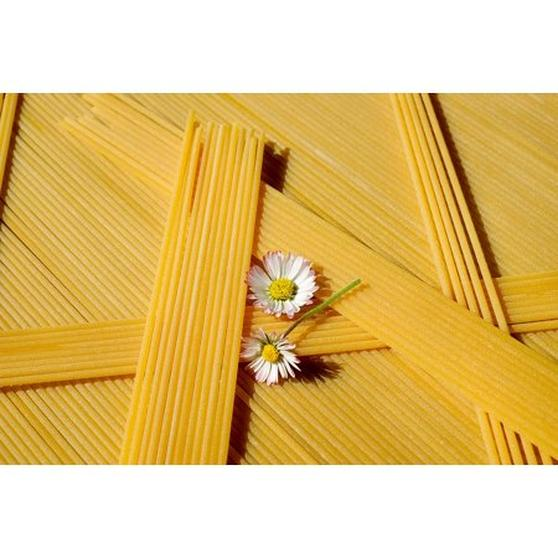spaghetti: (127, 118, 262, 479)
